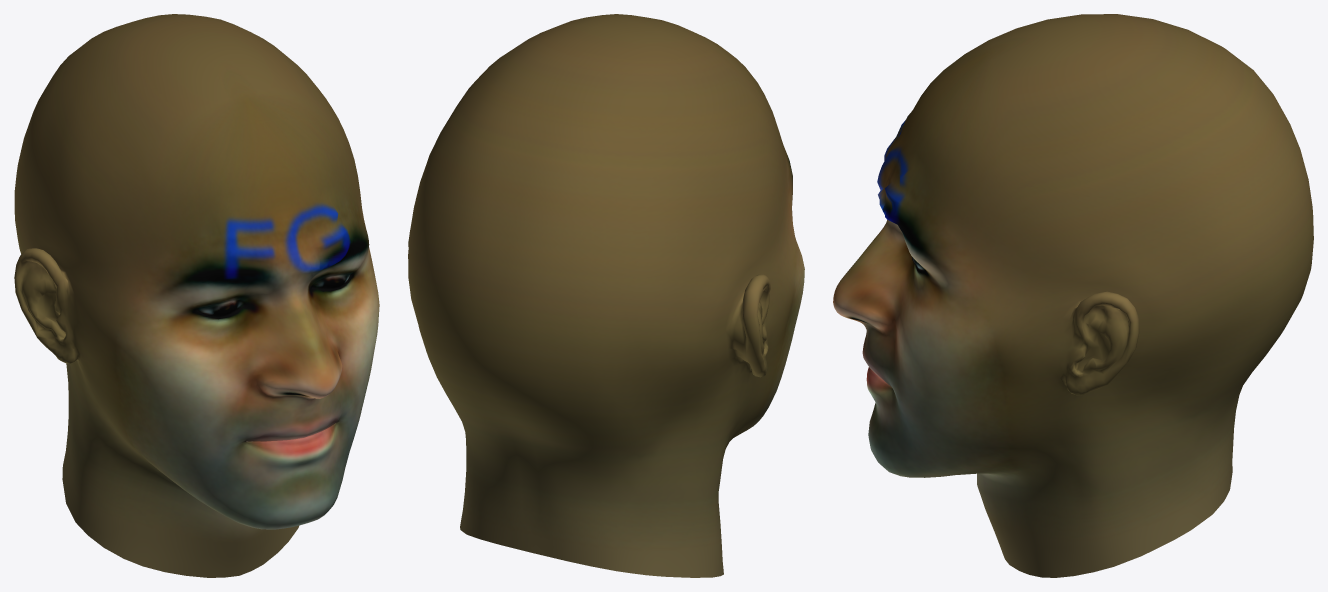
The model's file is avg_anyrace_male_18.obj.
3 renders of one model, left to right at view 1: azimuth 30°, elevation 25°; view 2: azimuth 150°, elevation 25°; view 3: azimuth 270°, elevation 25°, orthographic. The views are drawn at different scales.
Visible parts, largest first — view 1: HeadHires; view 2: HeadHires; view 3: HeadHires.
Boxes of the visible parts, x1=… form: HeadHires: x1=14, y1=14, x2=379, y2=577; HeadHires: x1=408, y1=14, x2=804, y2=577; HeadHires: x1=833, y1=14, x2=1313, y2=577.
Bounding box in the file's own units: 189 × 283 × 235.
3 materials, 3 textured.
